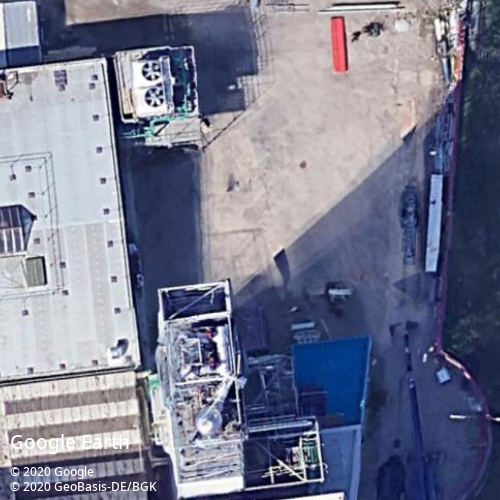Vent: (144, 87, 165, 108), (141, 61, 162, 81)
